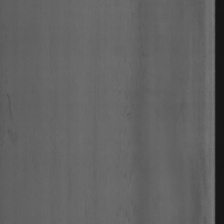water_spot: (6, 89, 22, 152)
